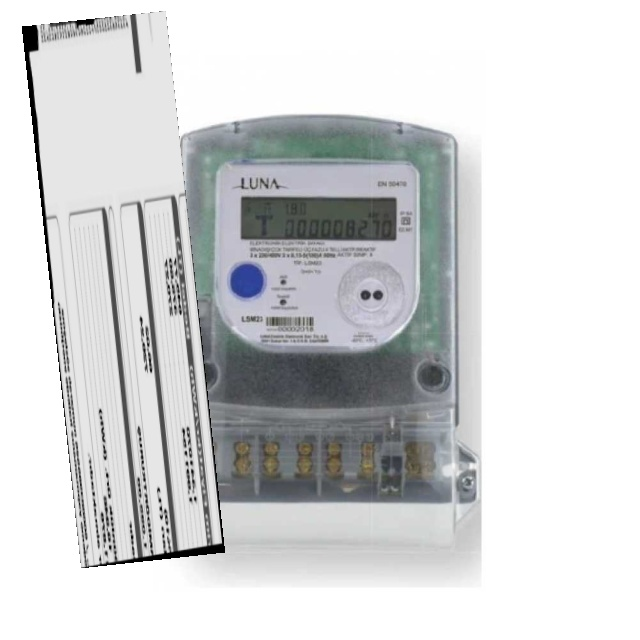electricity-bill: (22, 10, 225, 567)
